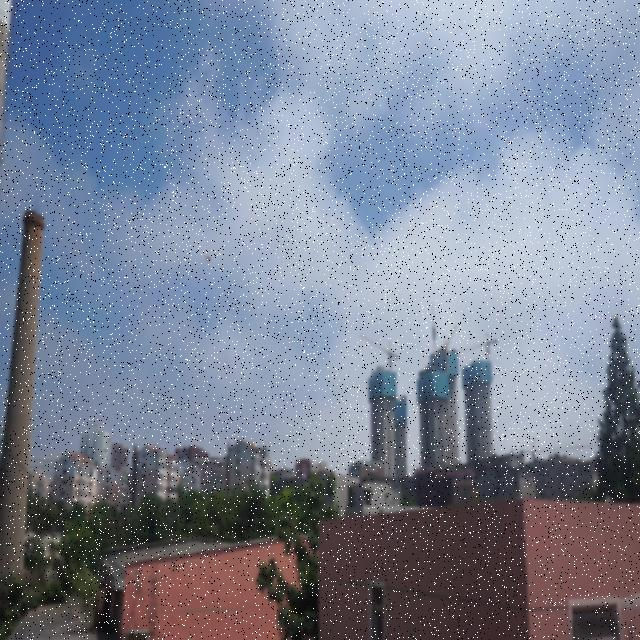UAV: (202, 252, 215, 263)
